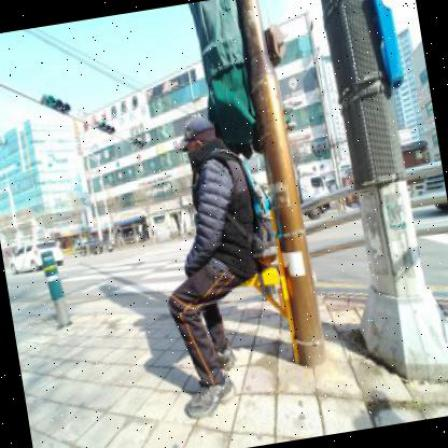silver: (138, 108, 305, 416)
